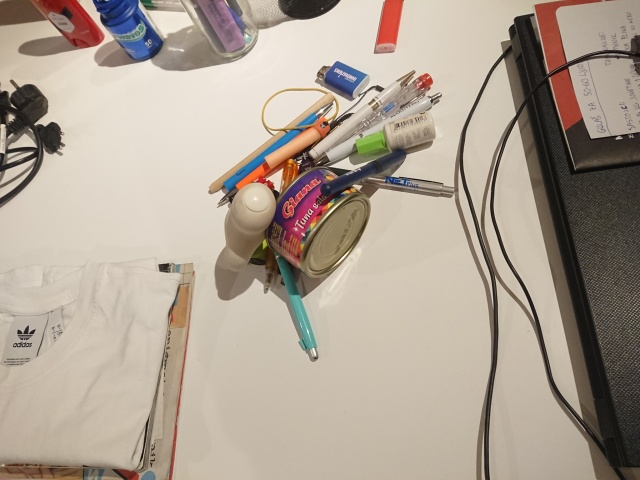Giana Tuna Salad Mexico 185g: (263, 163, 373, 282)
